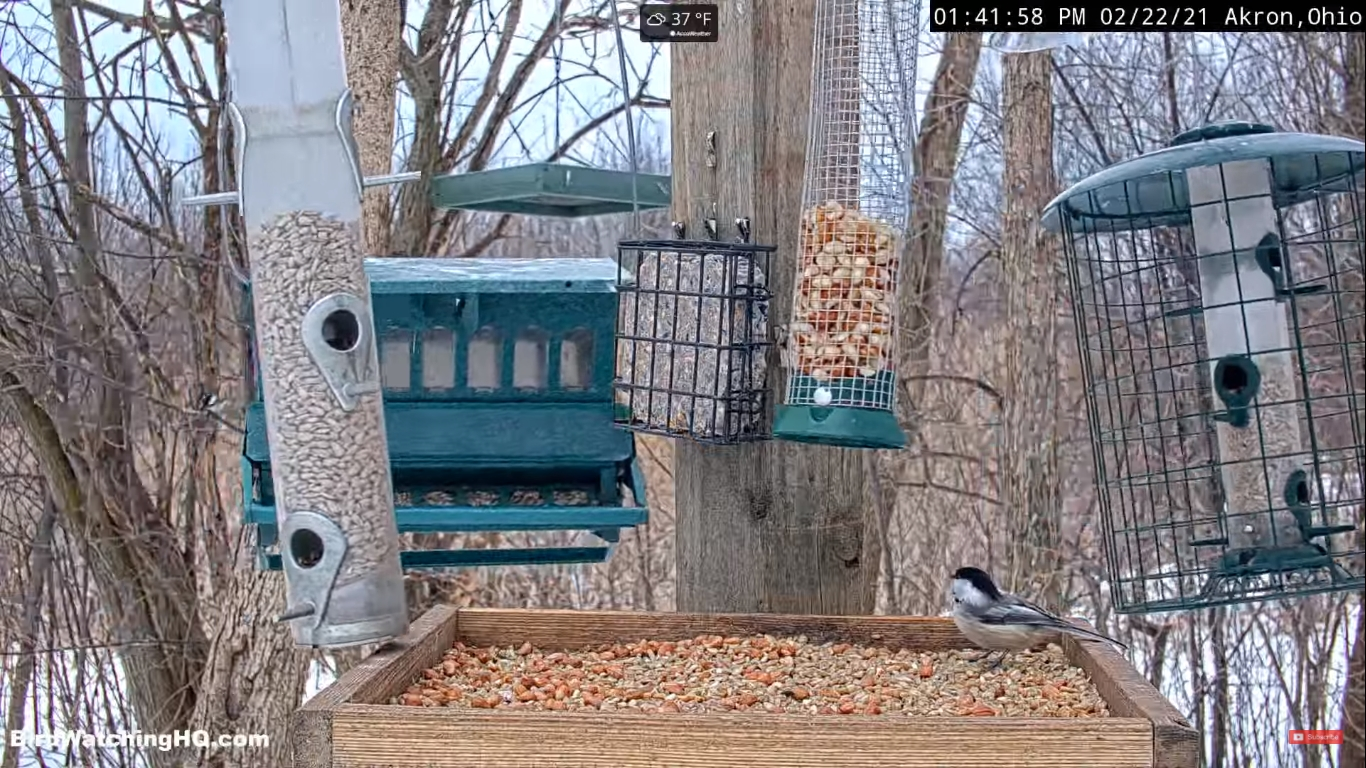bird: (949, 566, 1128, 666)
